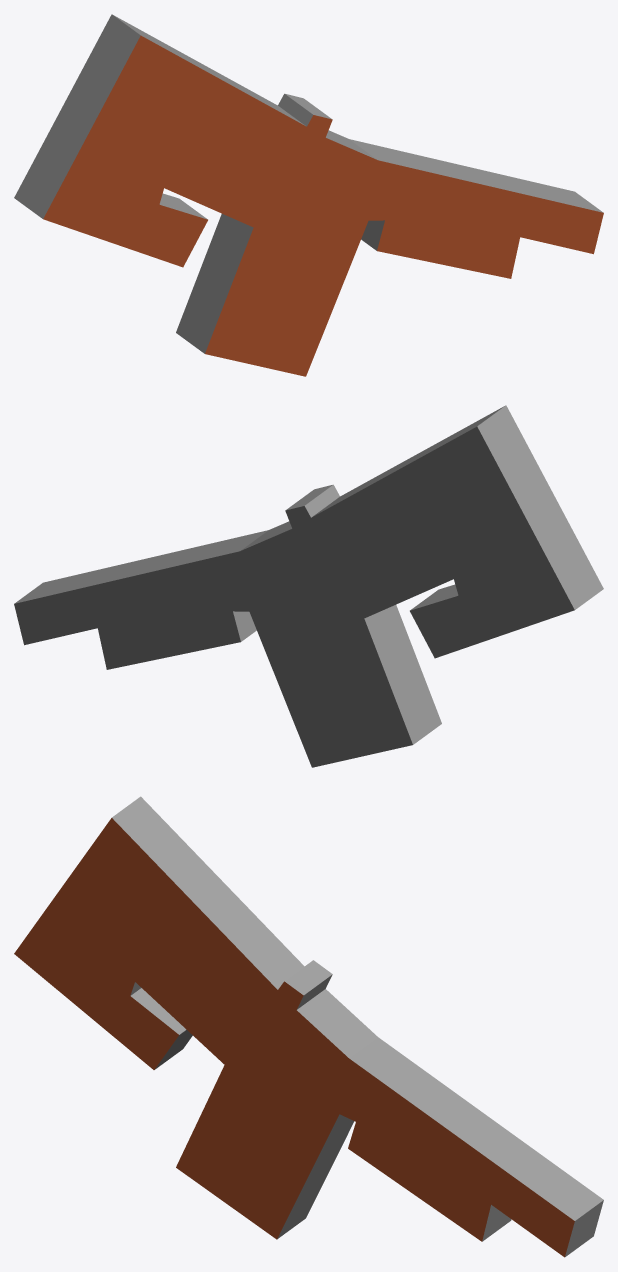
The model's file is construction_3288_assumed_A_Casa_h6m.obj.
The picture shows the model from 3 angles, top to bottom: view 1: azimuth 30°, elevation 25°; view 2: azimuth 150°, elevation 25°; view 3: azimuth 330°, elevation 25°; orthographic projection.
Visible parts, largest first — view 1: construction_3288_assumed_A_Casa; view 2: construction_3288_assumed_A_Casa; view 3: construction_3288_assumed_A_Casa.
Boxes of the visible parts, <box> form: construction_3288_assumed_A_Casa: <box>14,14,603,376</box>; construction_3288_assumed_A_Casa: <box>14,405,603,767</box>; construction_3288_assumed_A_Casa: <box>14,796,603,1257</box>.
Bounding box in the file's own units: 66.83 × 43.46 × 6.
